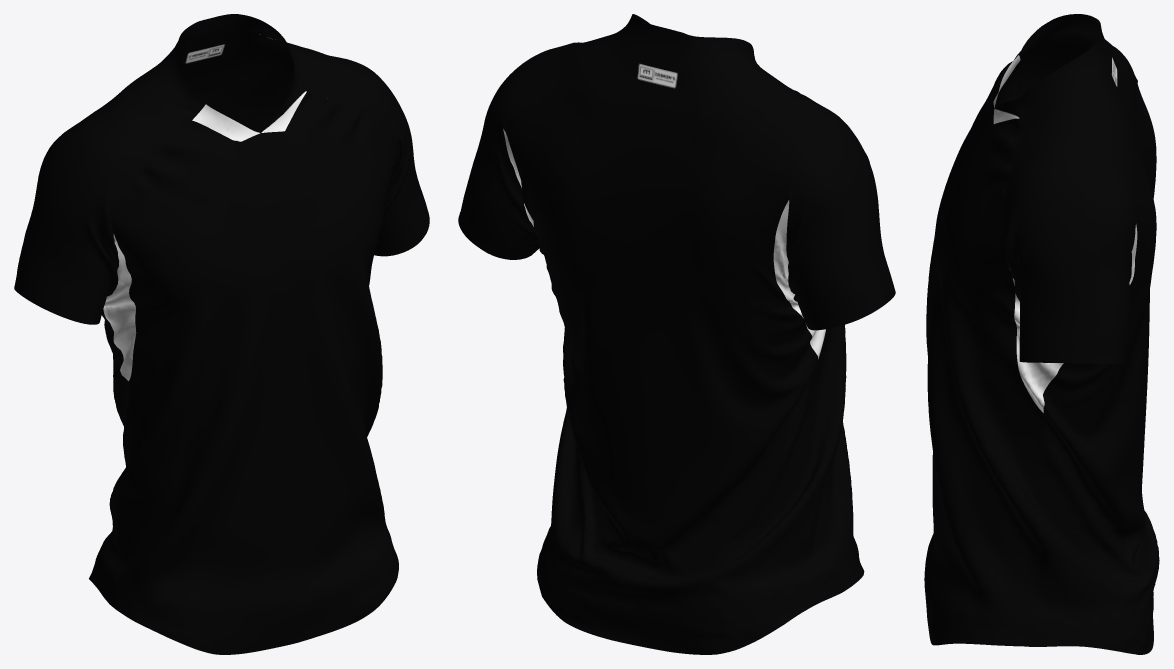
Rendered from camiseta.glb.
3 renders of one model, left to right at view 1: azimuth 30°, elevation 25°; view 2: azimuth 150°, elevation 25°; view 3: azimuth 270°, elevation 25°, orthographic. The views are drawn at different scales.
Parts seen in each view (by area): view 1: Cloth; view 2: Cloth; view 3: Cloth.
Boxes of the visible parts, left/top/right/bottom form: Cloth: left=14, top=14, right=429, bottom=654; Cloth: left=458, top=14, right=895, bottom=654; Cloth: left=924, top=14, right=1159, bottom=654.
Size of the model in its own units: 0.5058 by 0.6923 by 0.2495.
Materials: 6 (6 with a texture image).
